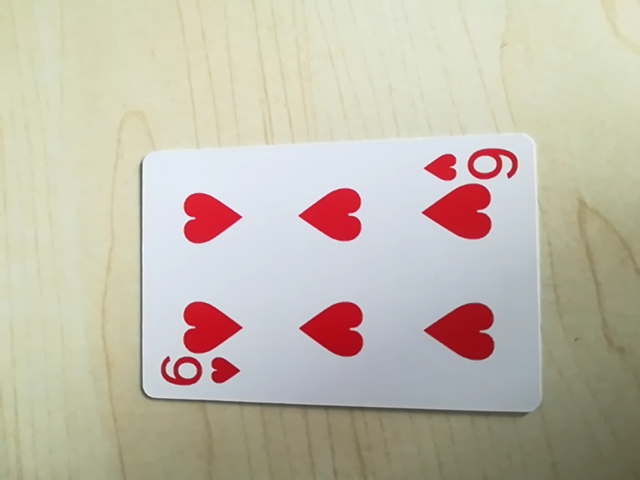hx 6: (419, 142, 520, 187), (156, 352, 243, 396)
